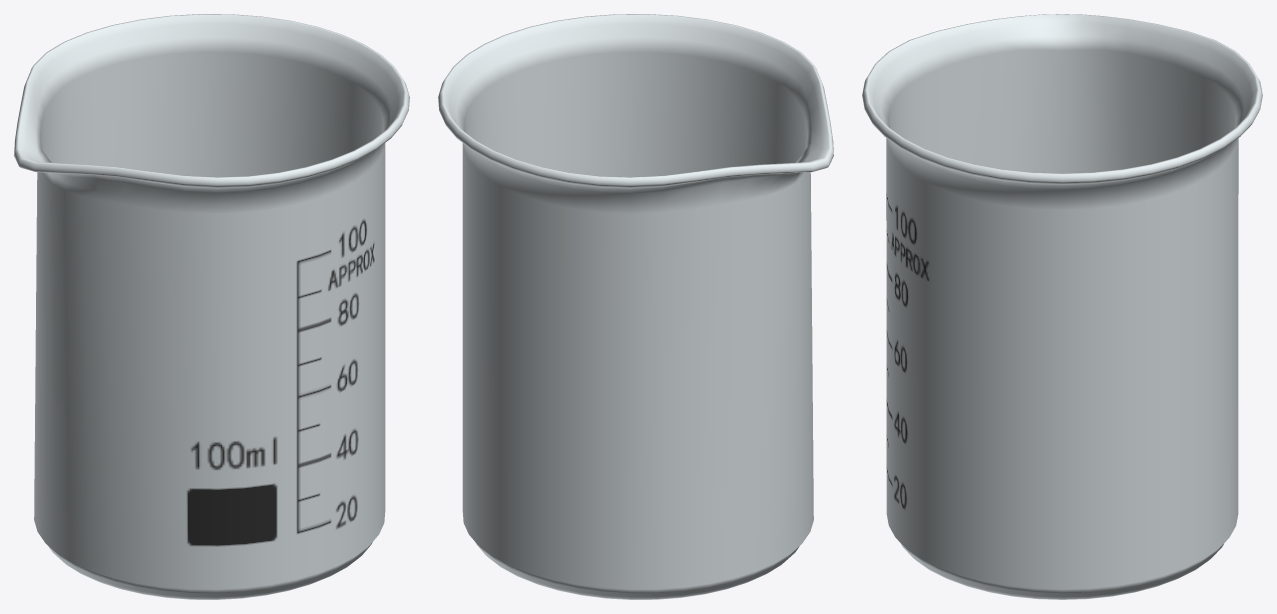
Rendered from shaobei.FBX.
The picture shows the model from 3 angles, left to right: view 1: azimuth 30°, elevation 25°; view 2: azimuth 150°, elevation 25°; view 3: azimuth 270°, elevation 25°; orthographic projection.
Visible parts, largest first — view 1: shaobei, hx_hxyq_sb; view 2: shaobei, hx_hxyq_sb; view 3: shaobei, hx_hxyq_sb.
Part boxes in pixels (x1,y1,x2,y2): shaobei: (34,143,385,589); hx_hxyq_sb: (14,14,409,599); shaobei: (462,143,813,589); hx_hxyq_sb: (438,14,833,599); shaobei: (886,138,1238,589); hx_hxyq_sb: (862,14,1262,599).
Size of the model in its own units: 5.62 by 6.44 by 5.29.
